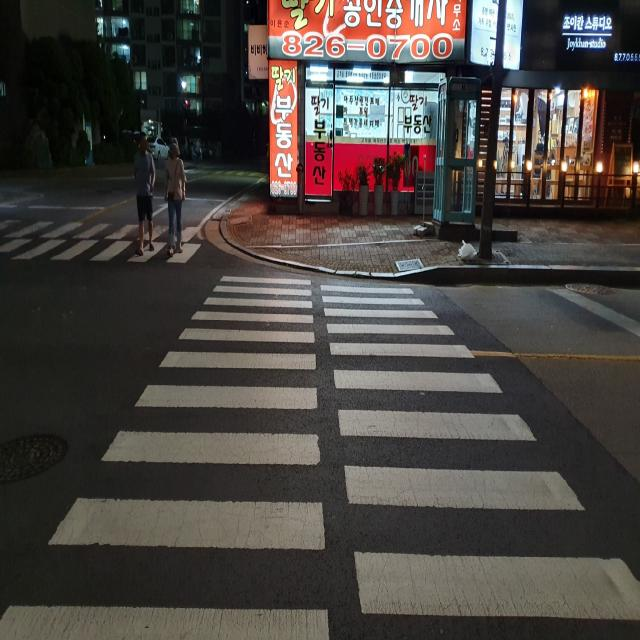횡단보도: (0, 274, 640, 640), (0, 198, 216, 266)
